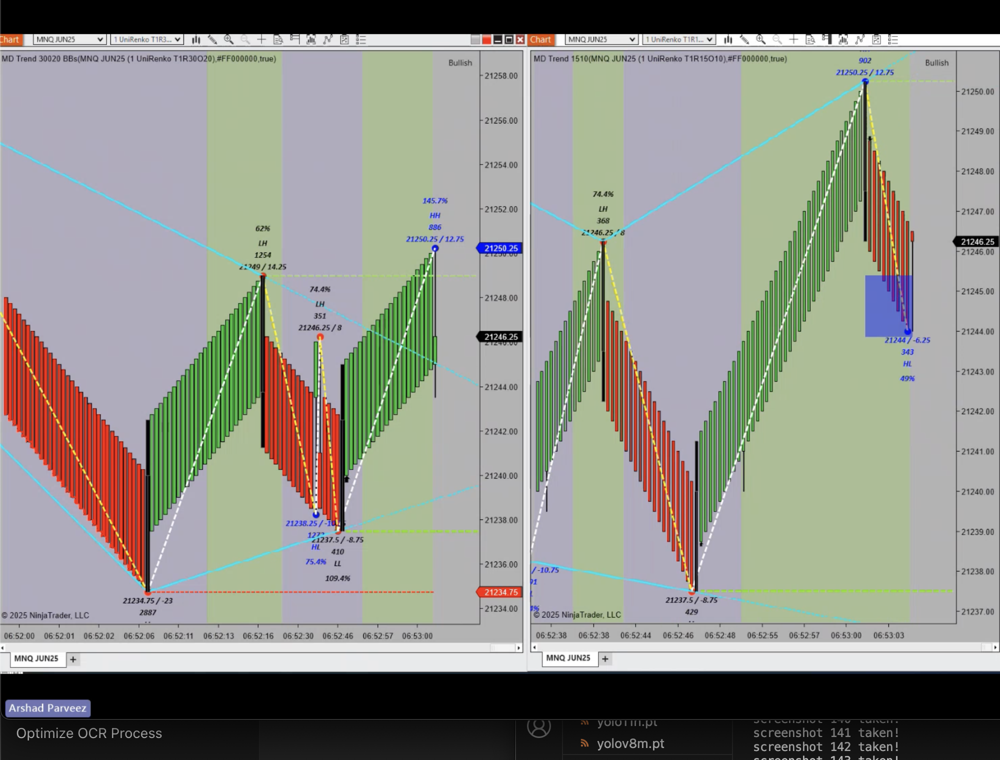HH: (423, 207, 455, 226)
HL: (303, 536, 326, 557), (897, 356, 919, 375)
LH: (593, 200, 615, 222), (309, 297, 334, 315), (253, 238, 277, 252)
LL: (327, 556, 351, 573)
